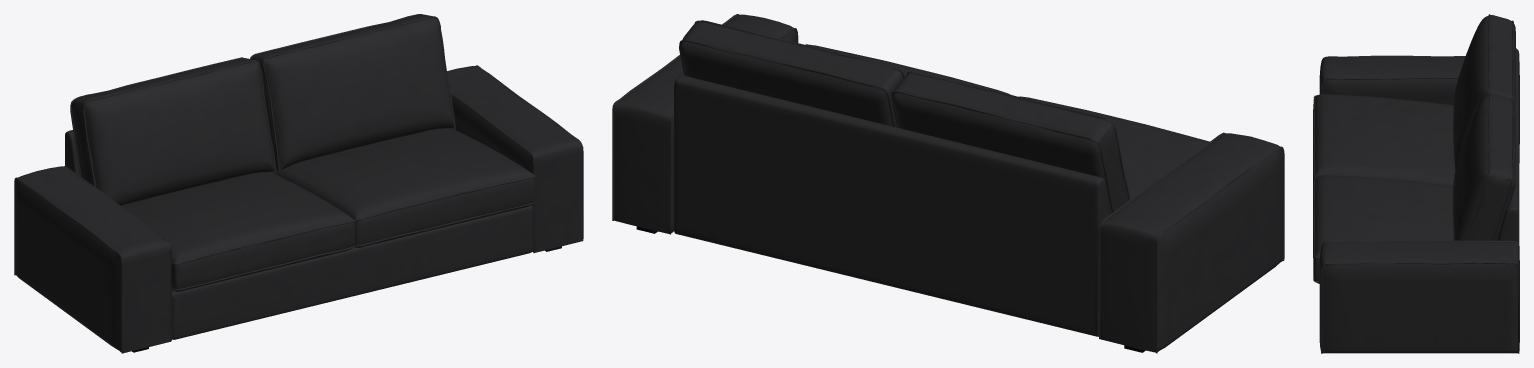
File: 24 - KIVIK 3-seat sofa - Tresund anthracite.glb
The picture shows the model from 3 angles, left to right: view 1: azimuth 30°, elevation 25°; view 2: azimuth 150°, elevation 25°; view 3: azimuth 270°, elevation 25°; orthographic projection. The views are drawn at different scales.
Visible parts, largest first — view 1: Mesh_0; view 2: Mesh_0; view 3: Mesh_0.
Part boxes in pixels (box(x1,y1,x2,y2)): Mesh_0: box(14, 14, 583, 353); Mesh_0: box(612, 14, 1284, 353); Mesh_0: box(1313, 14, 1519, 353).
Bounding box in the file's own units: 2.28 × 0.8303 × 0.9501.
1 material, 1 textured.
